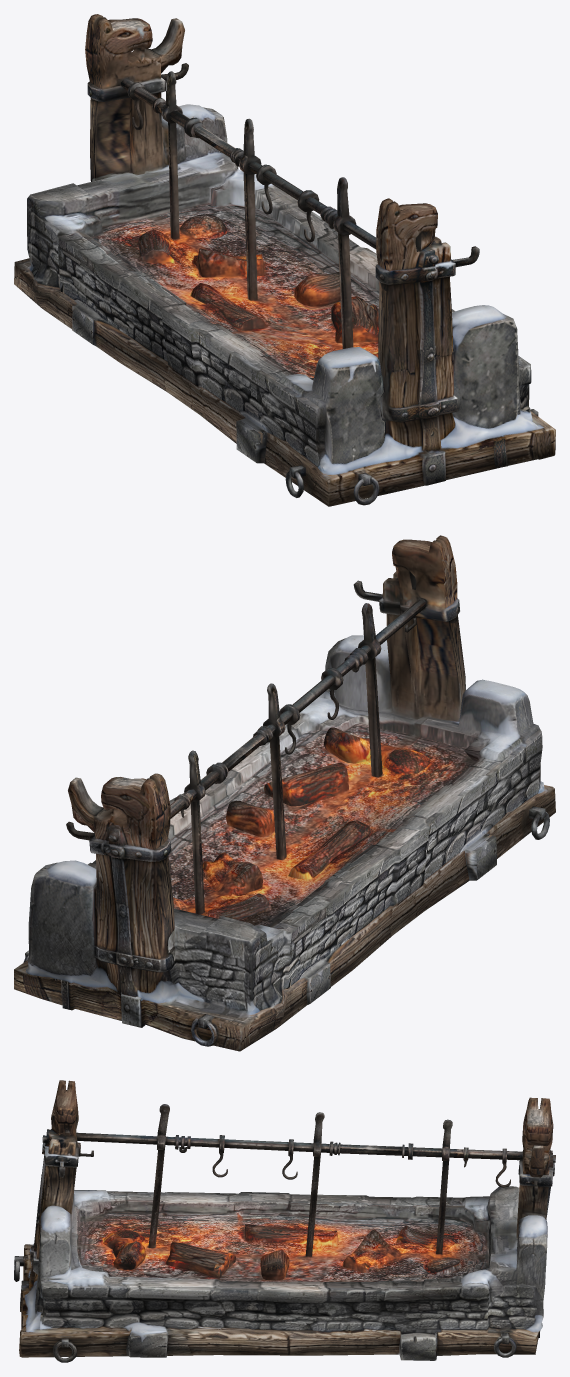
File: SM_Env_HeorotHearthFirepit.fbx
3 renders of one model, top to bottom at view 1: azimuth 30°, elevation 25°; view 2: azimuth 150°, elevation 25°; view 3: azimuth 270°, elevation 25°, orthographic. The views are drawn at different scales.
Parts seen in each view (by area): view 1: SM_Env_HeorotHearthFirepit; view 2: SM_Env_HeorotHearthFirepit; view 3: SM_Env_HeorotHearthFirepit.
Part boxes in pixels (x1=…): SM_Env_HeorotHearthFirepit: x1=14, y1=14, x2=555, y2=506; SM_Env_HeorotHearthFirepit: x1=14, y1=535, x2=555, y2=1051; SM_Env_HeorotHearthFirepit: x1=14, y1=1080, x2=555, y2=1362.
Size of the model in its own units: 17.17 by 39.17 by 18.
1 material, 1 textured.
